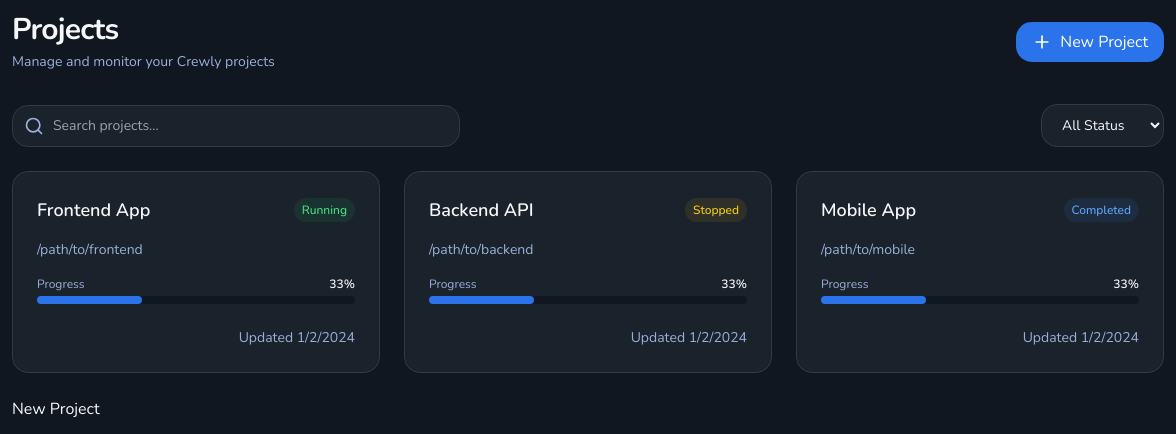
Test: Projects Page › Search and Filter Functionality › should filter projects by search term
The image size is (1176, 434).
expect the heading "Frontend App" is shown: met, box [37,196,150,224]
In the field with placeholder "Search projects...": x=236, y=126 [12,104,460,146], type "frontend"
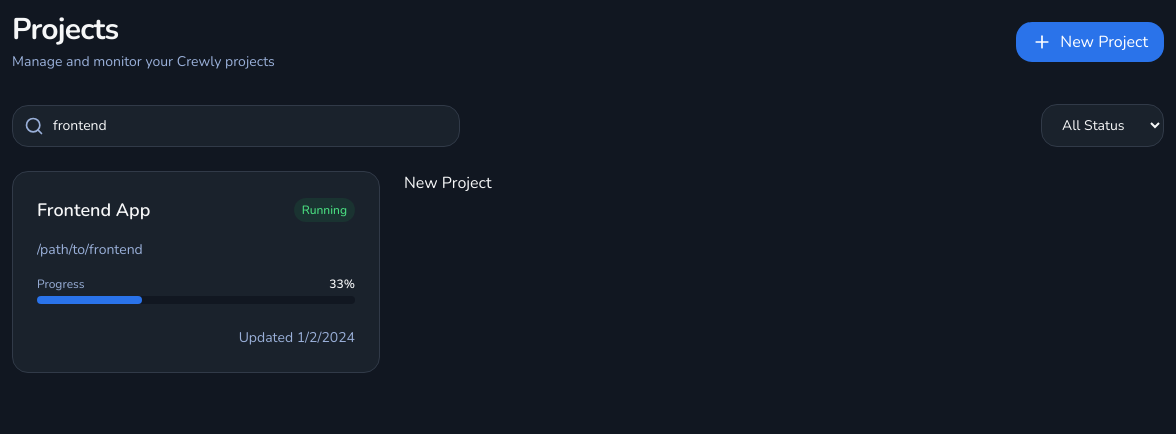
expect the heading "Frontend App" is shown: met, box [37,196,150,224]
expect the heading "Backend API" is gone: met
expect the heading "Mobile App" is gone: met
